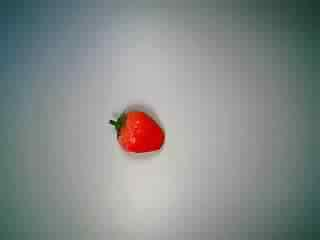strawberry: (105, 104, 168, 158)
